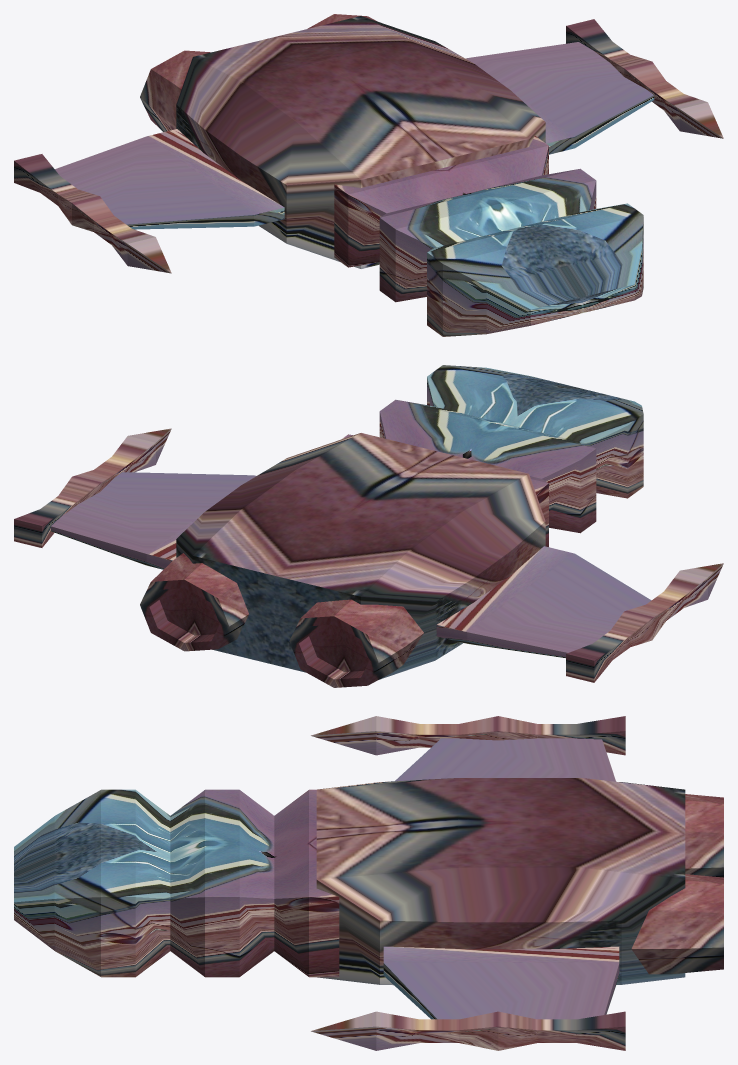
Rendered from m1-ship2.obj.
The picture shows the model from 3 angles, top to bottom: view 1: azimuth 30°, elevation 25°; view 2: azimuth 150°, elevation 25°; view 3: azimuth 270°, elevation 25°; orthographic projection. The views are drawn at different scales.
Parts seen in each view (by area): view 1: M1_Ship_2_Cube.047; view 2: M1_Ship_2_Cube.047; view 3: M1_Ship_2_Cube.047.
Boxes of the visible parts, <box> form: M1_Ship_2_Cube.047: <box>14,14,723,336</box>; M1_Ship_2_Cube.047: <box>14,365,723,687</box>; M1_Ship_2_Cube.047: <box>14,716,723,1050</box>.
Bounding box in the file's own units: 28.75 × 5.03 × 27.77.
